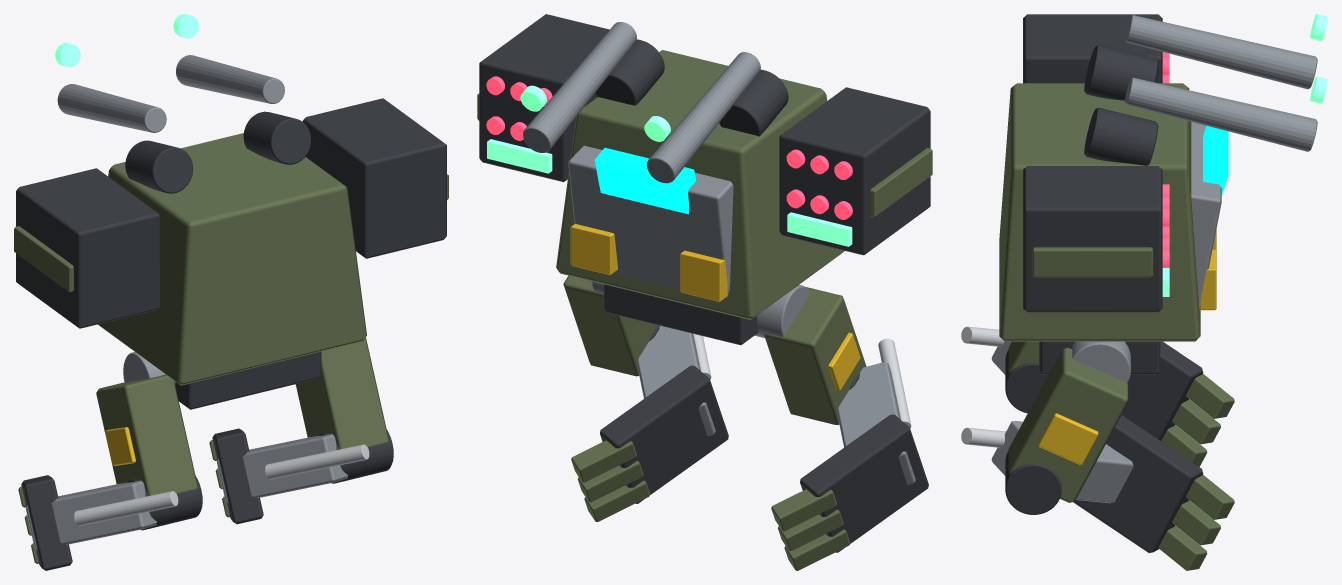
Rendered from mech_goliath.glb.
3 renders of one model, left to right at view 1: azimuth 30°, elevation 25°; view 2: azimuth 150°, elevation 25°; view 3: azimuth 270°, elevation 25°, orthographic. The views are drawn at different scales.
Visible parts, largest first — view 1: Goliath_Torso, Goliath_MissilePod_L, Goliath_MissilePod_R, Goliath_Thigh_L, Goliath_Thigh_R, Goliath_Pelvis, Goliath_Calf_L, Goliath_Calf_R, Goliath_CannonBarrel_L, Goliath_CannonBarrel_R, Goliath_CannonMount_L, Goliath_CannonMount_R (+9 smaller); view 2: Goliath_Torso, Goliath_MissilePod_L, Goliath_ChestArmor, Goliath_MissilePod_R, Goliath_FootBase_R, Goliath_FootBase_L, Goliath_Thigh_L, Goliath_CannonBarrel_R, Goliath_CannonBarrel_L, Goliath_Thigh_R, Goliath_Pelvis, Goliath_CockpitCanopy (+18 smaller); view 3: Goliath_Torso, Goliath_MissilePod_R, Goliath_Thigh_R, Goliath_FootBase_R, Goliath_MissilePod_L, Goliath_CannonBarrel_R, Goliath_CannonBarrel_L, Goliath_FootBase_L, Goliath_PodTrim_R, Goliath_CannonMount_R, Goliath_ChestArmor, Goliath_CannonMount_L (+17 smaller).
Boxes of the visible parts, x1=… form: Goliath_Torso: x1=98, y1=133, x2=366, y2=385; Goliath_MissilePod_L: x1=16, y1=168, x2=160, y2=328; Goliath_MissilePod_R: x1=302, y1=98, x2=446, y2=258; Goliath_Thigh_L: x1=96, y1=374, x2=196, y2=495; Goliath_Thigh_R: x1=295, y1=337, x2=388, y2=449; Goliath_Pelvis: x1=175, y1=351, x2=321, y2=409; Goliath_Calf_L: x1=25, y1=480, x2=156, y2=549; Goliath_Calf_R: x1=216, y1=434, x2=347, y2=503; Goliath_CannonBarrel_L: x1=57, y1=84, x2=166, y2=132; Goliath_CannonBarrel_R: x1=176, y1=55, x2=284, y2=103; Goliath_CannonMount_L: x1=125, y1=140, x2=192, y2=193; Goliath_CannonMount_R: x1=243, y1=111, x2=311, y2=164; Goliath_Torso: x1=556, y1=50, x2=844, y2=319; Goliath_MissilePod_L: x1=779, y1=87, x2=930, y2=255; Goliath_ChestArmor: x1=568, y1=145, x2=733, y2=300; Goliath_MissilePod_R: x1=479, y1=14, x2=609, y2=182; Goliath_FootBase_R: x1=600, y1=365, x2=728, y2=503; Goliath_FootBase_L: x1=800, y1=414, x2=928, y2=552; Goliath_Thigh_L: x1=764, y1=287, x2=866, y2=424; Goliath_CannonBarrel_R: x1=523, y1=22, x2=636, y2=152; Goliath_CannonBarrel_L: x1=646, y1=52, x2=760, y2=183; Goliath_Thigh_R: x1=563, y1=275, x2=657, y2=376; Goliath_Pelvis: x1=604, y1=284, x2=758, y2=345; Goliath_CockpitCanopy: x1=594, y1=147, x2=696, y2=214; Goliath_Torso: x1=999, y1=83, x2=1200, y2=341; Goliath_MissilePod_R: x1=1023, y1=166, x2=1162, y2=312; Goliath_Thigh_R: x1=1008, y1=347, x2=1128, y2=502; Goliath_FootBase_R: x1=1073, y1=415, x2=1203, y2=552; Goliath_MissilePod_L: x1=1023, y1=14, x2=1162, y2=83; Goliath_CannonBarrel_R: x1=1125, y1=77, x2=1317, y2=151; Goliath_CannonBarrel_L: x1=1125, y1=15, x2=1317, y2=89; Goliath_FootBase_L: x1=1121, y1=341, x2=1203, y2=440; Goliath_PodTrim_R: x1=1032, y1=247, x2=1153, y2=277; Goliath_CannonMount_R: x1=1084, y1=107, x2=1158, y2=165; Goliath_ChestArmor: x1=1191, y1=122, x2=1221, y2=314; Goliath_CannonMount_L: x1=1084, y1=45, x2=1158, y2=100.
Bounding box in the file's own units: 3.45 × 3.83 × 2.58.
